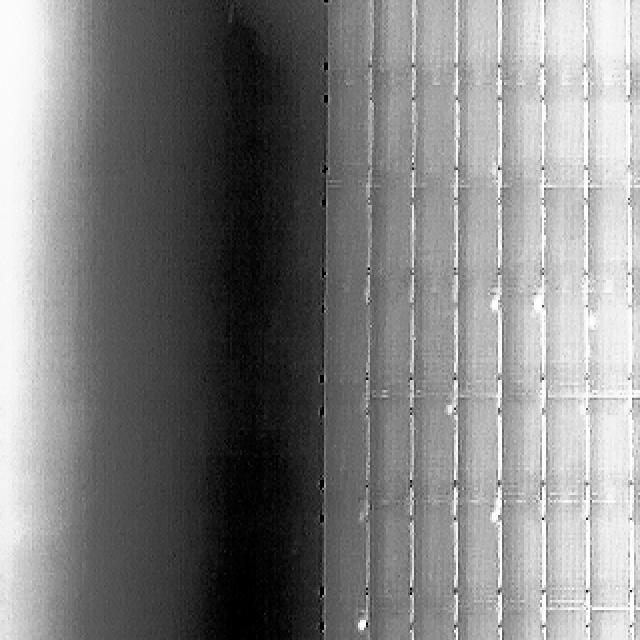Hotspots: (486, 294, 504, 317), (578, 312, 597, 332), (530, 293, 547, 313), (354, 615, 369, 636), (444, 400, 458, 421), (487, 511, 502, 529)
PV-modules: (528, 0, 588, 89), (502, 188, 550, 295), (457, 394, 503, 504), (409, 394, 455, 504), (323, 290, 369, 400), (542, 292, 589, 399), (503, 396, 550, 502), (588, 505, 634, 613), (410, 506, 456, 614), (325, 183, 370, 293), (410, 290, 455, 399), (324, 397, 369, 506), (588, 395, 633, 503), (364, 399, 408, 509), (410, 183, 456, 288), (587, 184, 632, 291), (365, 289, 409, 398), (586, 84, 632, 188), (498, 502, 543, 608), (543, 186, 588, 292), (502, 288, 546, 396), (457, 183, 500, 293), (364, 503, 409, 608), (542, 398, 586, 505), (373, 87, 419, 189), (588, 293, 633, 397), (324, 504, 368, 610), (458, 292, 502, 398), (541, 85, 586, 188), (497, 85, 542, 188), (458, 503, 502, 608), (366, 183, 410, 288), (544, 503, 588, 607), (413, 87, 458, 188), (327, 85, 371, 187), (457, 87, 501, 188), (503, 0, 552, 86), (412, 2, 456, 90), (326, 0, 372, 82), (586, 0, 630, 83), (458, 0, 500, 86), (369, 2, 411, 88), (360, 607, 408, 640), (456, 605, 500, 640), (408, 607, 454, 640), (498, 610, 544, 640), (544, 610, 588, 640), (324, 610, 368, 640), (588, 612, 632, 640), (628, 293, 640, 395), (630, 502, 640, 610), (634, 188, 640, 298), (632, 0, 640, 82), (634, 85, 640, 187), (636, 395, 640, 500), (630, 610, 640, 640)
